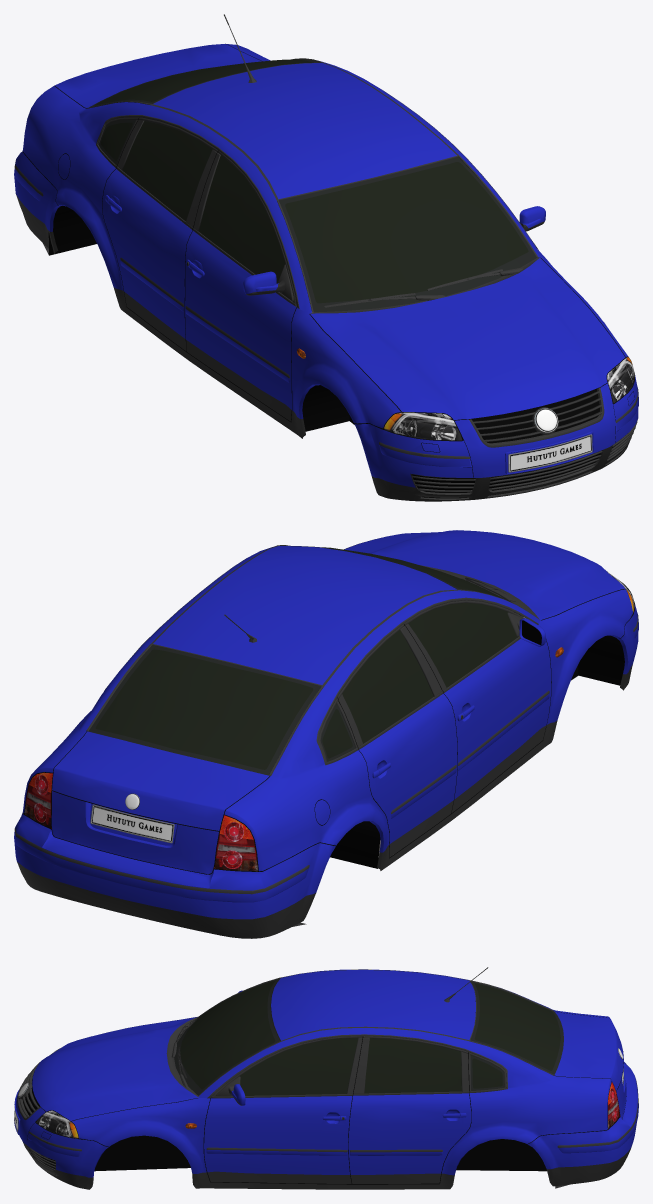
The model's file is Volkswagen_N18081.FBX.
3 renders of one model, top to bottom at view 1: azimuth 30°, elevation 25°; view 2: azimuth 150°, elevation 25°; view 3: azimuth 270°, elevation 25°, orthographic. The views are drawn at different scales.
Visible parts, largest first — view 1: Box001; view 2: Box001; view 3: Box001.
Boxes of the visible parts, left/top/right/bottom form: Box001: left=14, top=14, right=638, bottom=501; Box001: left=14, top=530, right=638, bottom=938; Box001: left=14, top=967, right=638, bottom=1189.
Bounding box in the file's own units: 1.91 × 1.5 × 4.75.
9 materials, 1 textured.
